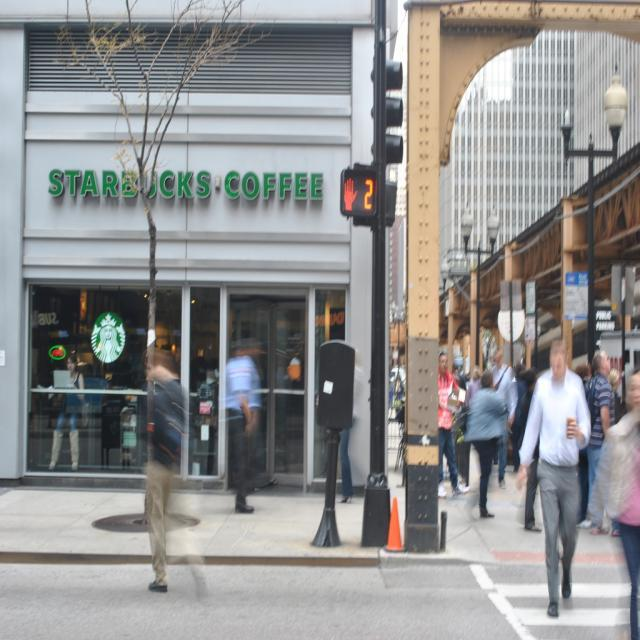off traffic light: (381, 60, 407, 161)
